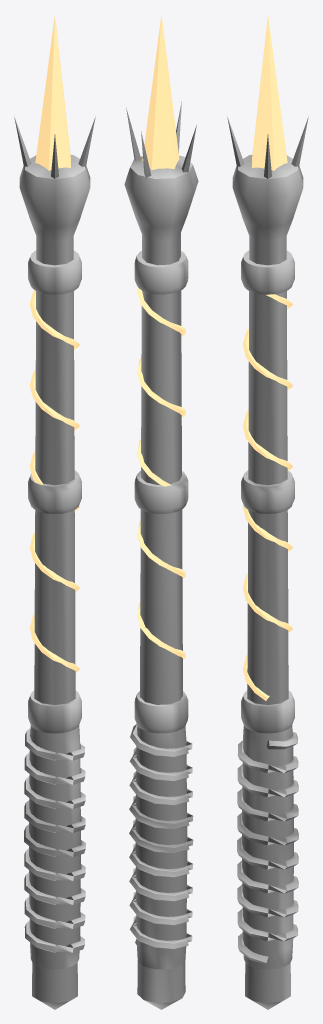
Rendered from rune_rod.glb.
3 views of the same model, side by side, from view 1: azimuth 90°, elevation 25°; view 2: azimuth 150°, elevation 25°; view 3: azimuth 270°, elevation 25° (orthographic).
Parts seen in each view (by area): view 1: rune_rod; view 2: rune_rod; view 3: rune_rod.
Part boxes in pixels (<box>): rune_rod: <box>14,15,95,1009</box>; rune_rod: <box>124,14,198,1009</box>; rune_rod: <box>227,15,308,1009</box>.
Bounding box in the file's own units: 0.044 × 0.59 × 0.044.
